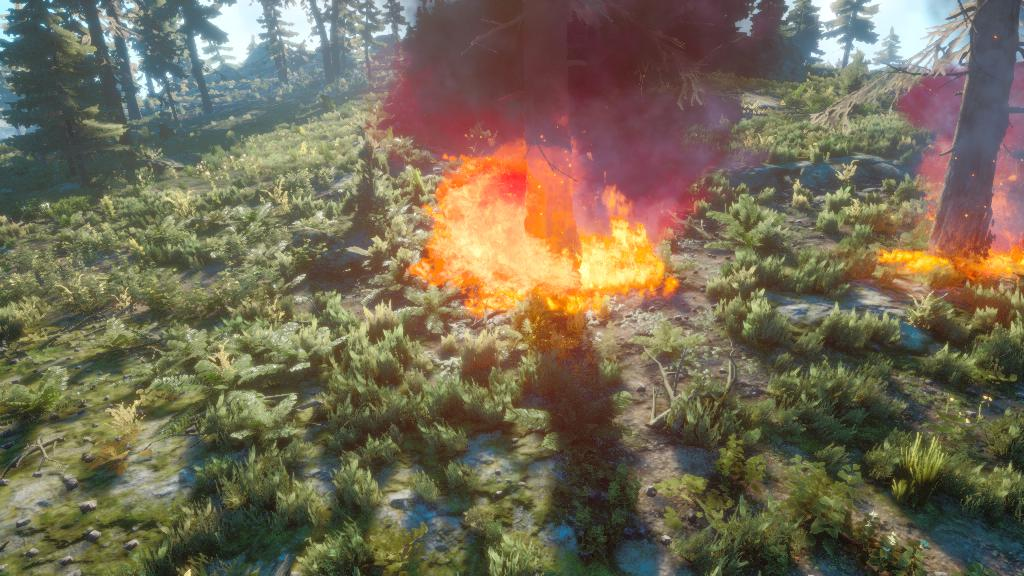Fire: (384, 142, 709, 330), (874, 207, 1023, 314)
smoke: (361, 2, 775, 205)
